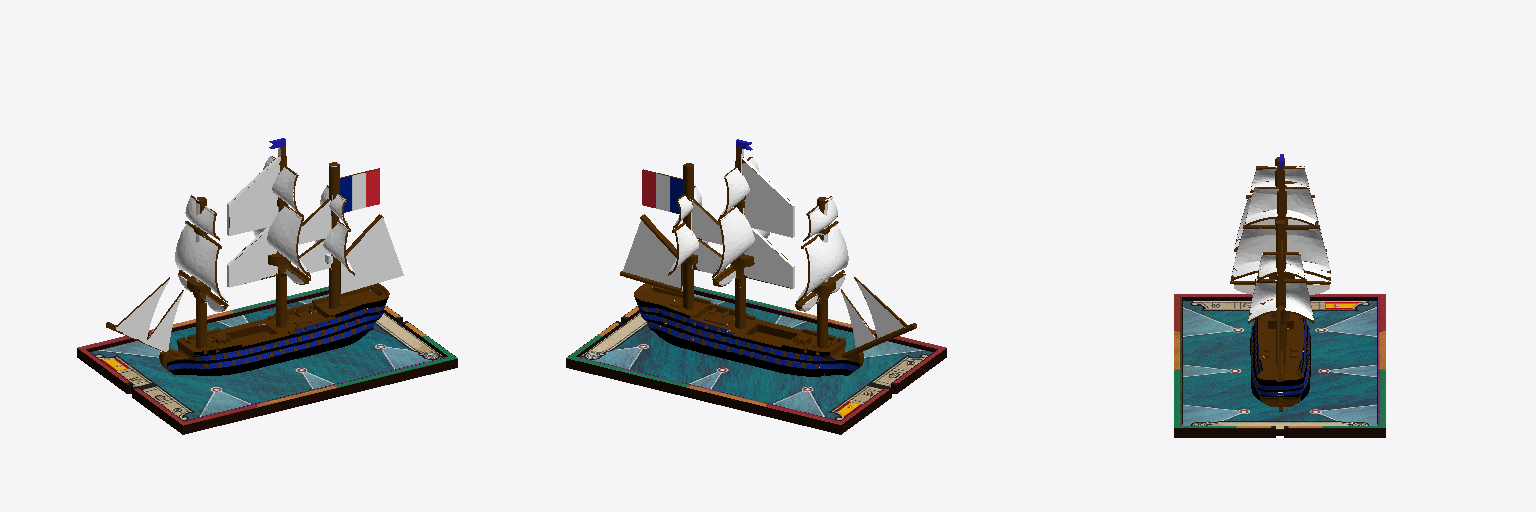
3 views of the same model, side by side, from view 1: azimuth 30°, elevation 25°; view 2: azimuth 150°, elevation 25°; view 3: azimuth 270°, elevation 25° (orthographic).
Visible parts, largest first — view 1: SOG_3r_French.obj; view 2: SOG_3r_French.obj; view 3: SOG_3r_French.obj.
Part boxes in pixels (bbox=[...]): SOG_3r_French.obj: bbox=[77, 138, 457, 434]; SOG_3r_French.obj: bbox=[566, 139, 946, 434]; SOG_3r_French.obj: bbox=[1174, 154, 1385, 437].
Bounding box in the file's own units: 7.09 × 4.96 × 4.36.
2 materials, 2 textured.